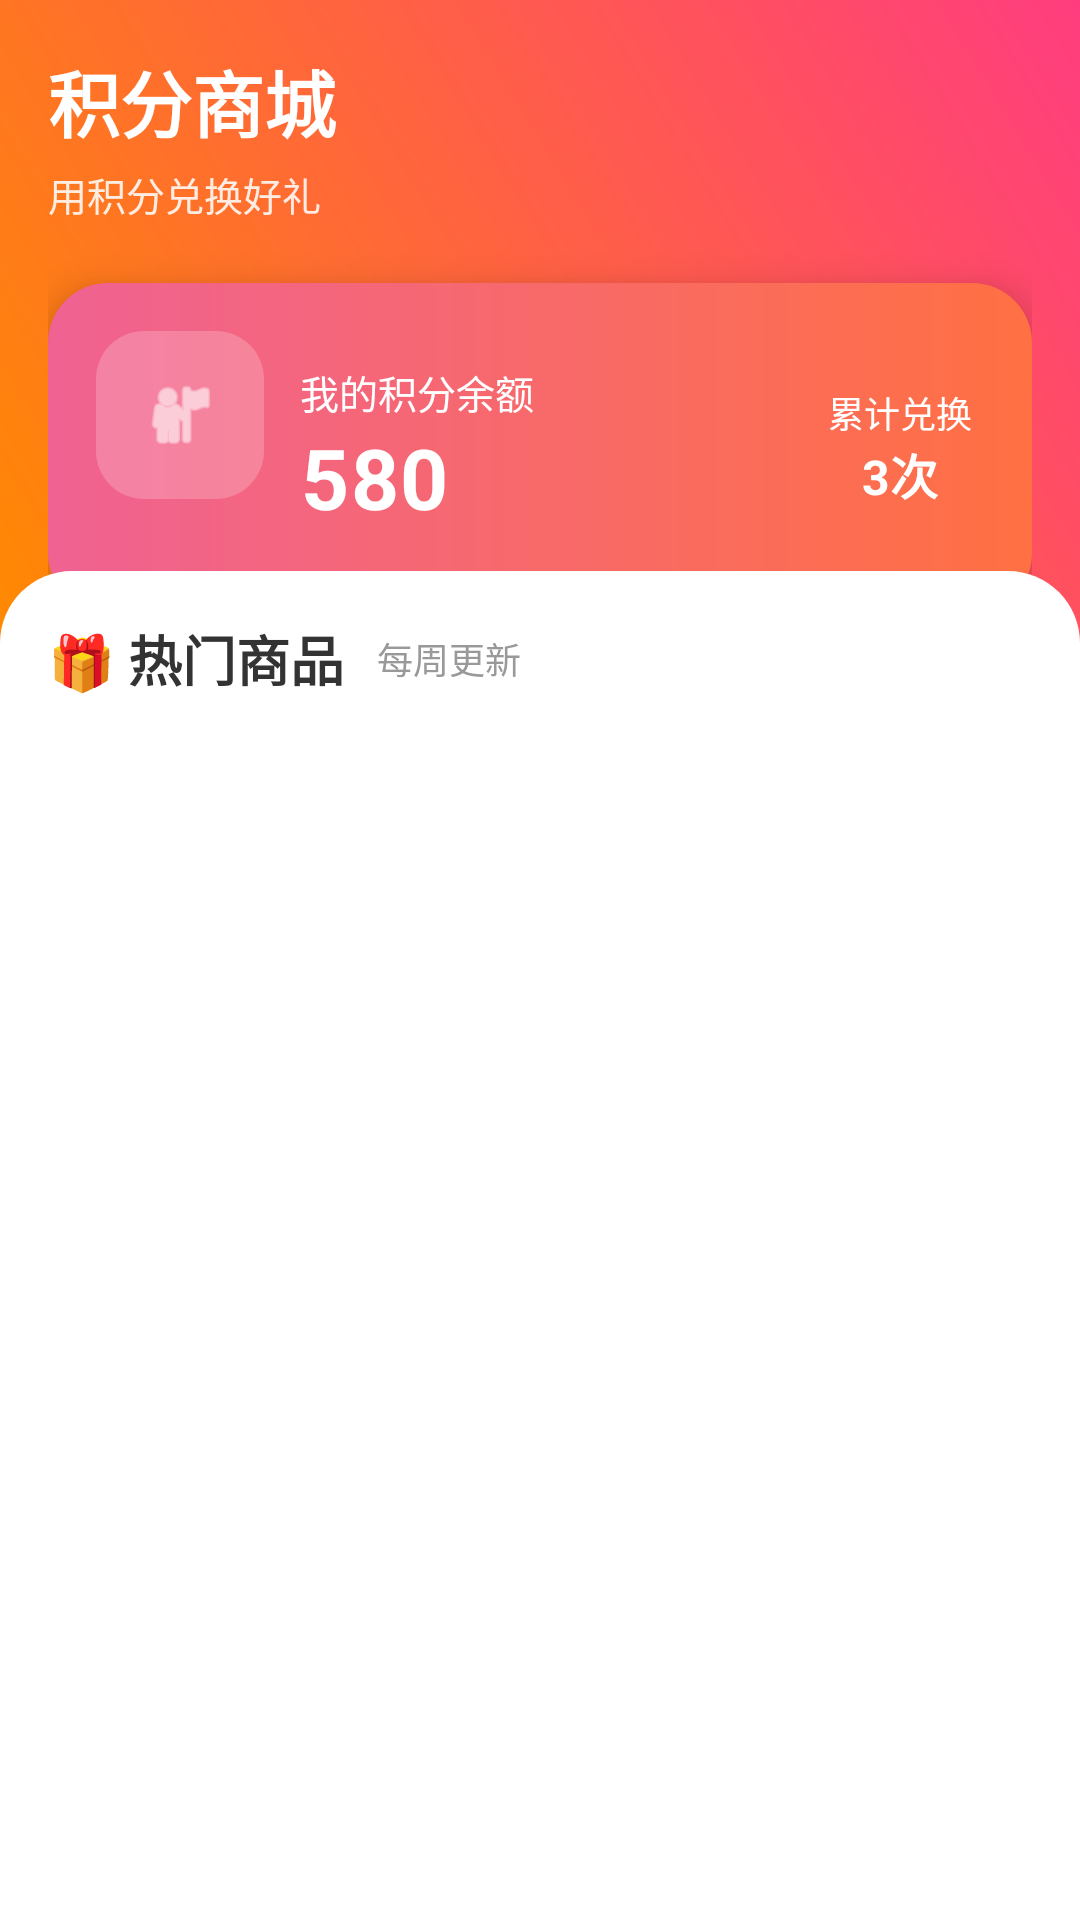

Icons on this 1080*1920 Android screen, each with its box as [x1, y1, x2, y2]:
myplaces: [152, 386, 210, 444]
